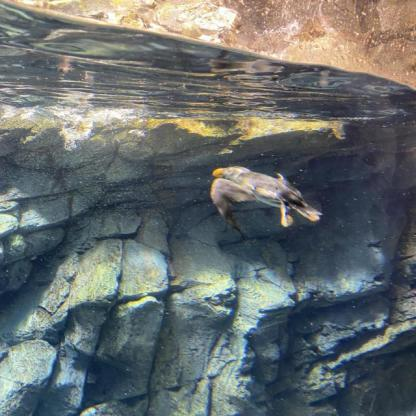puffin: (207, 161, 325, 235)
